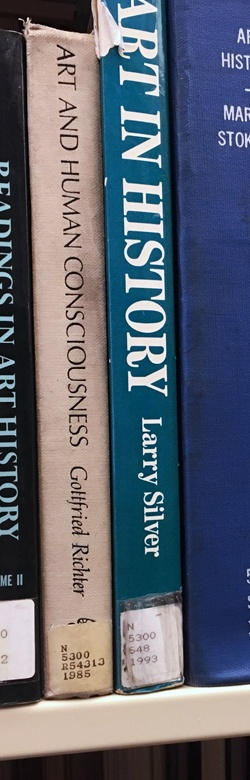call_number: (117, 609, 184, 683), (51, 621, 110, 692)
